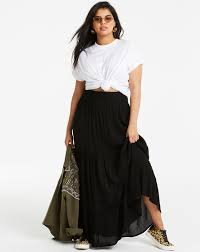S_skirt: (36, 86, 171, 249)
